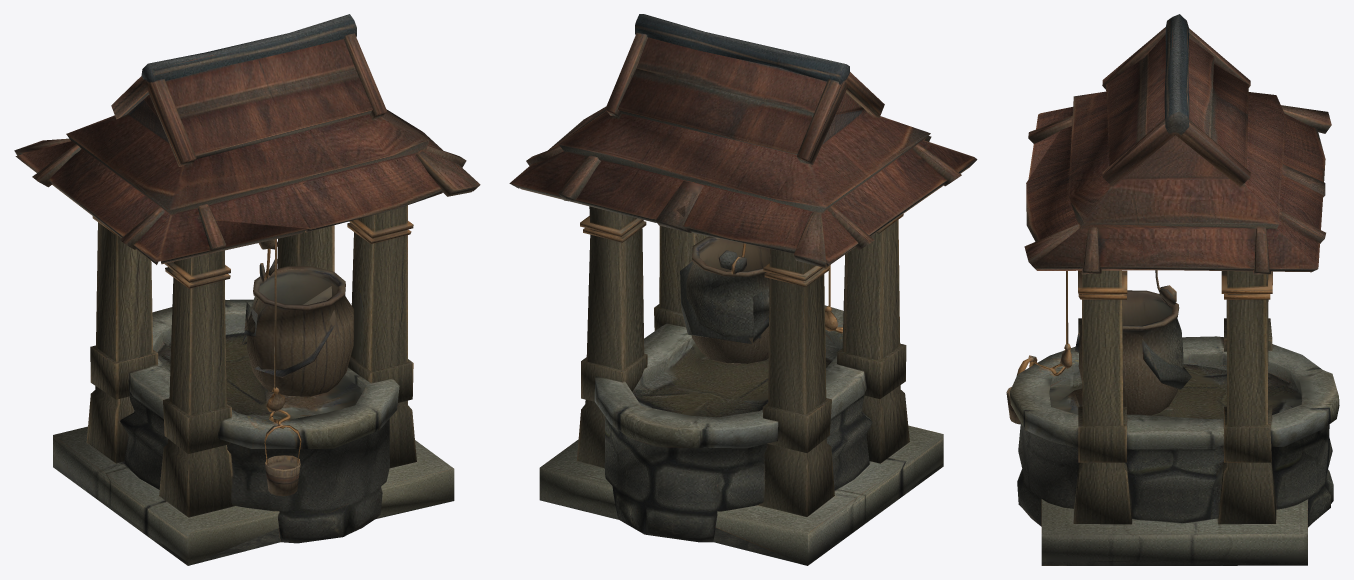
Rendered from well.glb.
3 views of the same model, side by side, from view 1: azimuth 30°, elevation 25°; view 2: azimuth 150°, elevation 25°; view 3: azimuth 270°, elevation 25° (orthographic). The views are drawn at different scales.
Bounding box in the file's own units: 0.7622 × 0.9478 × 0.6523.
1 material, 1 textured.
